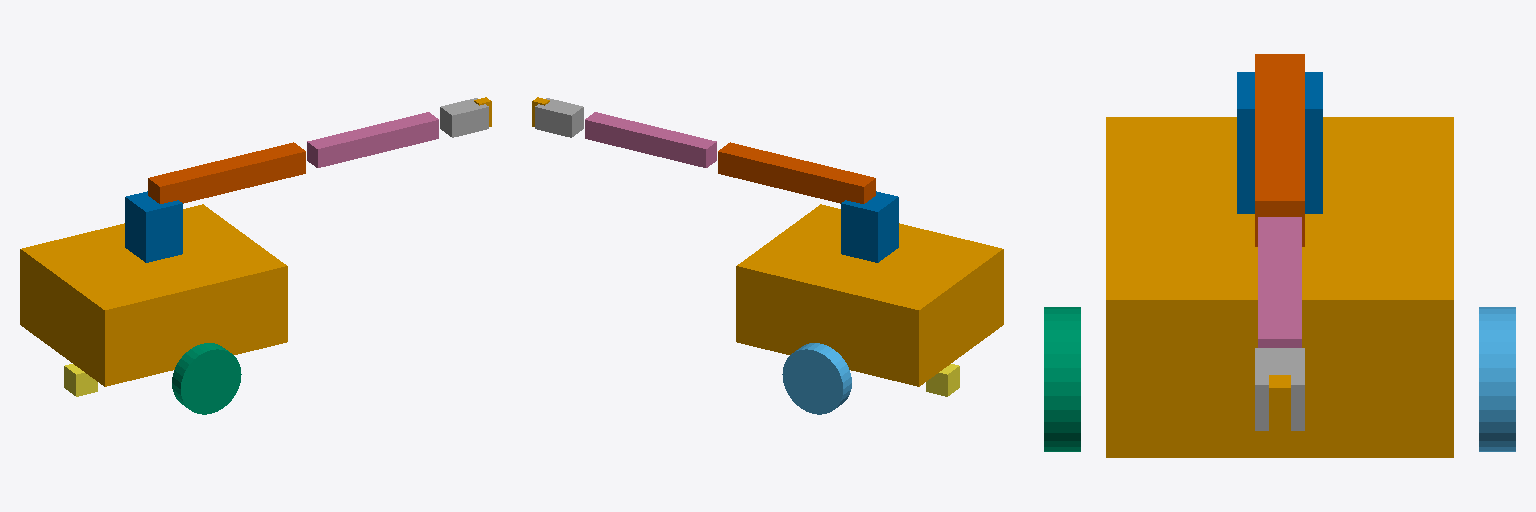
URDF robot description (Fictional mobile manipulator):
<?xml version="1.0"?>
<!-- Fictional simulation fixture; not a rated hardware model. Configure wheel radius 0.05 m, track width 0.30 m and reviewed acceleration limits during import. -->
<robot name="Fictional mobile manipulator">
  <link name="base_link">
    <visual>
      <origin xyz="0 0 .12" />
      <geometry>
        <box size=".3 .24 .12" />
      </geometry>
    </visual>
    <collision>
      <origin xyz="0 0 .12" />
      <geometry>
        <box size=".3 .24 .12" />
      </geometry>
    </collision>
    <inertial>
      <origin xyz="0 0 .12" />
      <mass value="5" />
      <inertia ixx=".01" ixy="0" ixz="0" iyy=".01" iyz="0" izz=".01" />
    </inertial>
  </link>
  <link name="left_wheel_link">
    <visual>
      <origin rpy="1.57079632679 0 0" />
      <geometry>
        <cylinder radius=".05" length=".025" />
      </geometry>
    </visual>
    <collision>
      <origin rpy="1.57079632679 0 0" />
      <geometry>
        <cylinder radius=".05" length=".025" />
      </geometry>
    </collision>
    <inertial>
      <mass value=".2" />
      <inertia ixx=".001" ixy="0" ixz="0" iyy=".001" iyz="0" izz=".001" />
    </inertial>
  </link>
  <joint name="left_wheel" type="continuous">
    <parent link="base_link" />
    <child link="left_wheel_link" />
    <origin xyz="0 0.15 .05" />
    <axis xyz="0 1 0" />
    <limit effort="20" velocity="10" />
  </joint>
  <link name="right_wheel_link">
    <visual>
      <origin rpy="1.57079632679 0 0" />
      <geometry>
        <cylinder radius=".05" length=".025" />
      </geometry>
    </visual>
    <collision>
      <origin rpy="1.57079632679 0 0" />
      <geometry>
        <cylinder radius=".05" length=".025" />
      </geometry>
    </collision>
    <inertial>
      <mass value=".2" />
      <inertia ixx=".001" ixy="0" ixz="0" iyy=".001" iyz="0" izz=".001" />
    </inertial>
  </link>
  <joint name="right_wheel" type="continuous">
    <parent link="base_link" />
    <child link="right_wheel_link" />
    <origin xyz="0 -0.15 .05" />
    <axis xyz="0 1 0" />
    <limit effort="20" velocity="10" />
  </joint>
  <link name="rear_support">
    <visual>
      <origin xyz="0 0 0" />
      <geometry>
        <box size=".035 .035 .035" />
      </geometry>
    </visual>
    <collision>
      <origin xyz="0 0 0" />
      <geometry>
        <box size=".035 .035 .035" />
      </geometry>
    </collision>
    <inertial>
      <origin xyz="0 0 0" />
      <mass value="0.1" />
      <inertia ixx=".01" ixy="0" ixz="0" iyy=".01" iyz="0" izz=".01" />
    </inertial>
  </link>
  <joint name="support_mount" type="fixed">
    <parent link="base_link" />
    <child link="rear_support" />
    <origin xyz="-.12 0 .0175" />
    <axis xyz="0 0 1" />
  </joint>
  <link name="yaw_link">
    <visual>
      <origin xyz="0 0 .04" />
      <geometry>
        <box size=".06 .06 .08" />
      </geometry>
    </visual>
    <collision>
      <origin xyz="0 0 .04" />
      <geometry>
        <box size=".06 .06 .08" />
      </geometry>
    </collision>
    <inertial>
      <origin xyz="0 0 .04" />
      <mass value="0.2" />
      <inertia ixx=".01" ixy="0" ixz="0" iyy=".01" iyz="0" izz=".01" />
    </inertial>
  </link>
  <link name="upper_arm">
    <visual>
      <origin xyz=".12 0 0" />
      <geometry>
        <box size=".24 .035 .035" />
      </geometry>
    </visual>
    <collision>
      <origin xyz=".12 0 0" />
      <geometry>
        <box size=".24 .035 .035" />
      </geometry>
    </collision>
    <inertial>
      <origin xyz=".12 0 0" />
      <mass value="0.2" />
      <inertia ixx=".01" ixy="0" ixz="0" iyy=".01" iyz="0" izz=".01" />
    </inertial>
  </link>
  <link name="forearm">
    <visual>
      <origin xyz=".1 0 0" />
      <geometry>
        <box size=".2 .03 .03" />
      </geometry>
    </visual>
    <collision>
      <origin xyz=".1 0 0" />
      <geometry>
        <box size=".2 .03 .03" />
      </geometry>
    </collision>
    <inertial>
      <origin xyz=".1 0 0" />
      <mass value="0.2" />
      <inertia ixx=".01" ixy="0" ixz="0" iyy=".01" iyz="0" izz=".01" />
    </inertial>
  </link>
  <link name="tool_tip">
    <visual>
      <origin xyz=".03 0 0" />
      <geometry>
        <box size=".06 .035 .035" />
      </geometry>
    </visual>
    <collision>
      <origin xyz=".03 0 0" />
      <geometry>
        <box size=".06 .035 .035" />
      </geometry>
    </collision>
    <inertial>
      <origin xyz=".03 0 0" />
      <mass value="0.2" />
      <inertia ixx=".01" ixy="0" ixz="0" iyy=".01" iyz="0" izz=".01" />
    </inertial>
  </link>
  <link name="finger">
    <visual>
      <origin xyz="0 0 0" />
      <geometry>
        <box size=".02 .015 .04" />
      </geometry>
    </visual>
    <collision>
      <origin xyz="0 0 0" />
      <geometry>
        <box size=".02 .015 .04" />
      </geometry>
    </collision>
    <inertial>
      <origin xyz="0 0 0" />
      <mass value="0.2" />
      <inertia ixx=".01" ixy="0" ixz="0" iyy=".01" iyz="0" izz=".01" />
    </inertial>
  </link>
  <joint name="base_yaw" type="revolute">
    <parent link="base_link" />
    <child link="yaw_link" />
    <origin xyz="0 0 .19" />
    <axis xyz="0 0 1" />
    <limit effort="20" velocity="1" lower="-3.14" upper="3.14" />
  </joint>
  <joint name="shoulder" type="revolute">
    <parent link="yaw_link" />
    <child link="upper_arm" />
    <origin xyz="0 0 .09" />
    <axis xyz="0 1 0" />
    <limit effort="20" velocity="1" lower="-2.0" upper="2.0" />
  </joint>
  <joint name="elbow" type="revolute">
    <parent link="upper_arm" />
    <child link="forearm" />
    <origin xyz=".26 0 0" />
    <axis xyz="0 1 0" />
    <limit effort="20" velocity="1" lower="-2.6" upper="2.6" />
  </joint>
  <joint name="wrist" type="revolute">
    <parent link="forearm" />
    <child link="tool_tip" />
    <origin xyz=".22 0 0" />
    <axis xyz="0 1 0" />
    <limit effort="20" velocity="1" lower="-3.14" upper="3.14" />
  </joint>
  <joint name="gripper" type="prismatic">
    <parent link="tool_tip" />
    <child link="finger" />
    <origin xyz=".06 0 0" />
    <axis xyz="0 1 0" />
    <limit effort="20" velocity="0.1" lower="0.0" upper="0.08" />
  </joint>
</robot>

--- What the picture shows (computed from the rendered views, not written in the file) ---
Views: 3 orthographic renders of the robot side by side, from view 1: azimuth 30°, elevation 25°; view 2: azimuth 150°, elevation 25°; view 3: azimuth 270°, elevation 25°.
Model Fictional mobile manipulator with 9 links and 8 joints (4 revolute, 2 continuous, 1 prismatic, 1 fixed), rooted at base_link, posed all joints at 0.
Visible links, largest first — view 1: base_link, upper_arm, right_wheel_link, forearm, yaw_link, tool_tip, rear_support; view 2: base_link, upper_arm, left_wheel_link, forearm, yaw_link, tool_tip, rear_support; view 3: base_link, upper_arm, forearm, left_wheel_link, right_wheel_link, yaw_link, tool_tip, finger.
Boxes of the visible links, <box> form: base_link: <box>20,204,287,386</box>; upper_arm: <box>148,142,305,203</box>; right_wheel_link: <box>172,343,241,414</box>; forearm: <box>307,112,438,167</box>; yaw_link: <box>125,191,182,262</box>; tool_tip: <box>440,98,488,137</box>; rear_support: <box>64,364,97,396</box>; base_link: <box>736,204,1003,386</box>; upper_arm: <box>718,142,875,203</box>; left_wheel_link: <box>782,343,851,414</box>; forearm: <box>585,112,716,167</box>; yaw_link: <box>841,191,898,262</box>; tool_tip: <box>535,98,583,137</box>; rear_support: <box>926,364,959,396</box>; base_link: <box>1106,117,1453,457</box>; upper_arm: <box>1255,54,1304,246</box>; forearm: <box>1258,217,1301,347</box>; left_wheel_link: <box>1479,307,1515,451</box>; right_wheel_link: <box>1044,307,1080,451</box>; yaw_link: <box>1237,72,1322,213</box>; tool_tip: <box>1255,348,1304,430</box>; finger: <box>1269,375,1290,439</box>.
Bounding box of the posed robot: 0.7 × 0.325 × 0.3 m (x, y, z).
Geometry: primitives only (box / cylinder / sphere), no mesh files.
